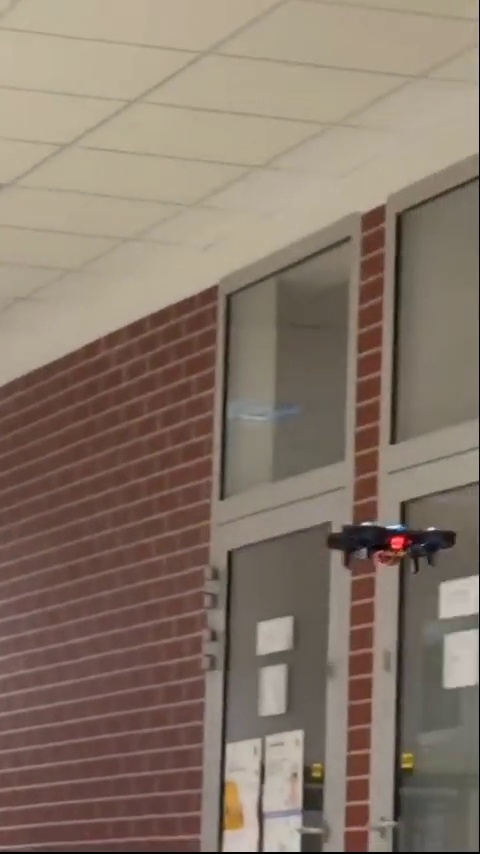drone: (321, 523, 459, 572)
